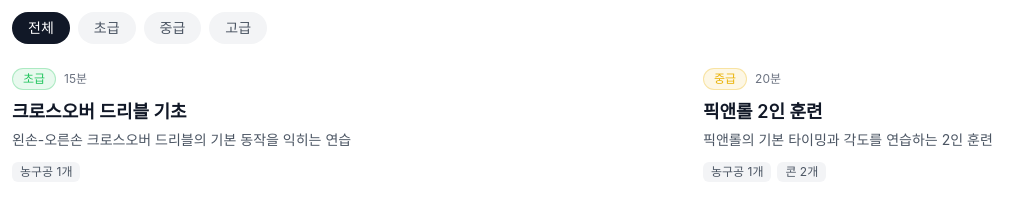
DrillListWithFilter › 초급 필터를 적용하면 초급만 표시한다
The image size is (1009, 199).
Click the button "초급".
click(107, 28)  # box [78,12,136,44]
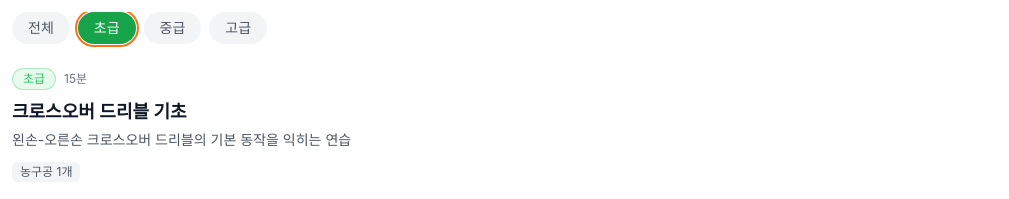
Expected: the heading "크로스오버 드리블 기초" is shown, [12,101,187,122]
Result: the link "픽앤롤 2인 훈련" is gone
